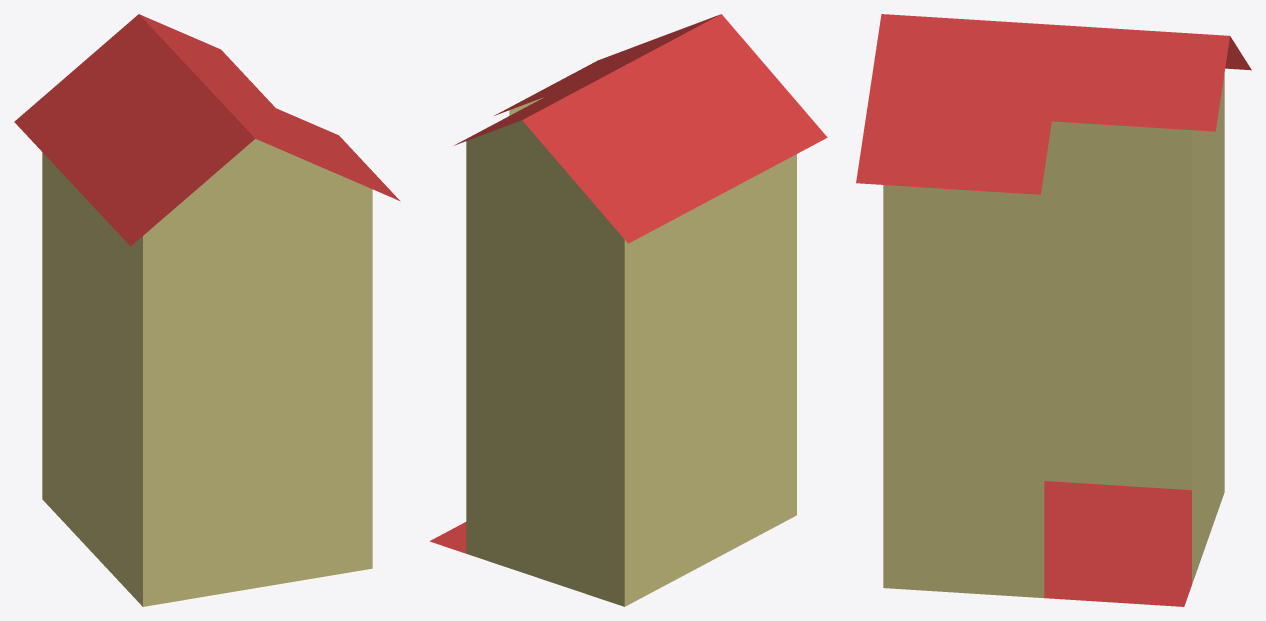
3 renders of one model, left to right at view 1: azimuth 30°, elevation 25°; view 2: azimuth 150°, elevation 25°; view 3: azimuth 270°, elevation 25°, orthographic. The views are drawn at different scales.
Bounding box in the file's own units: 7.19 × 8.21 × 11.67.
